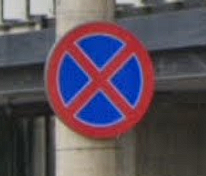oprirea_interzisa: (47, 19, 159, 142)
